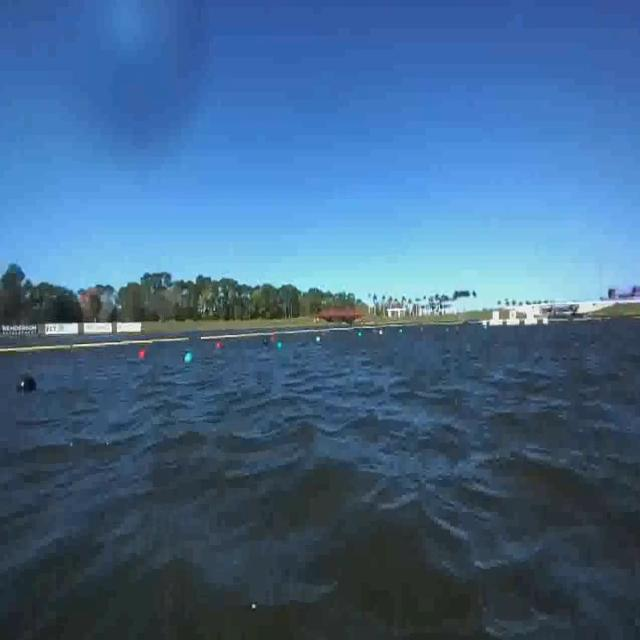black-buoy: (18, 376, 38, 394)
green-buoy: (184, 351, 193, 364)
red-buoy: (139, 350, 147, 359)
